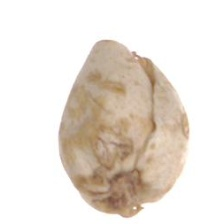L1: (93, 37, 158, 88), (101, 172, 155, 218)
L2: (58, 39, 190, 216)
